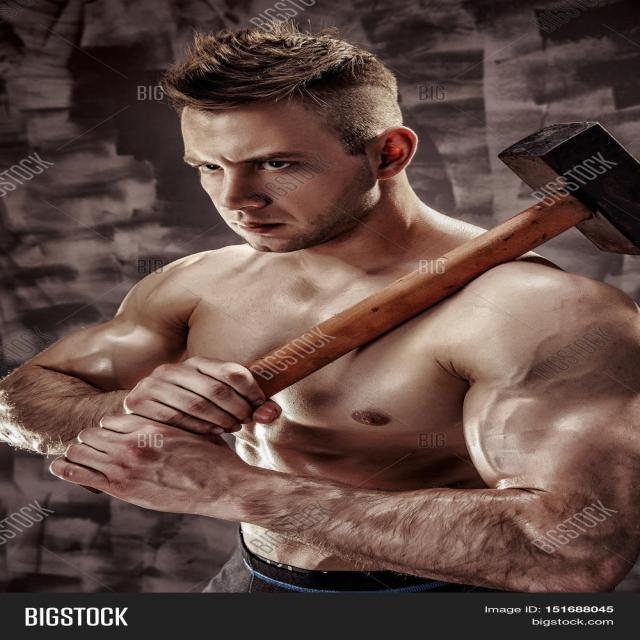hammer: (56, 110, 640, 516)
